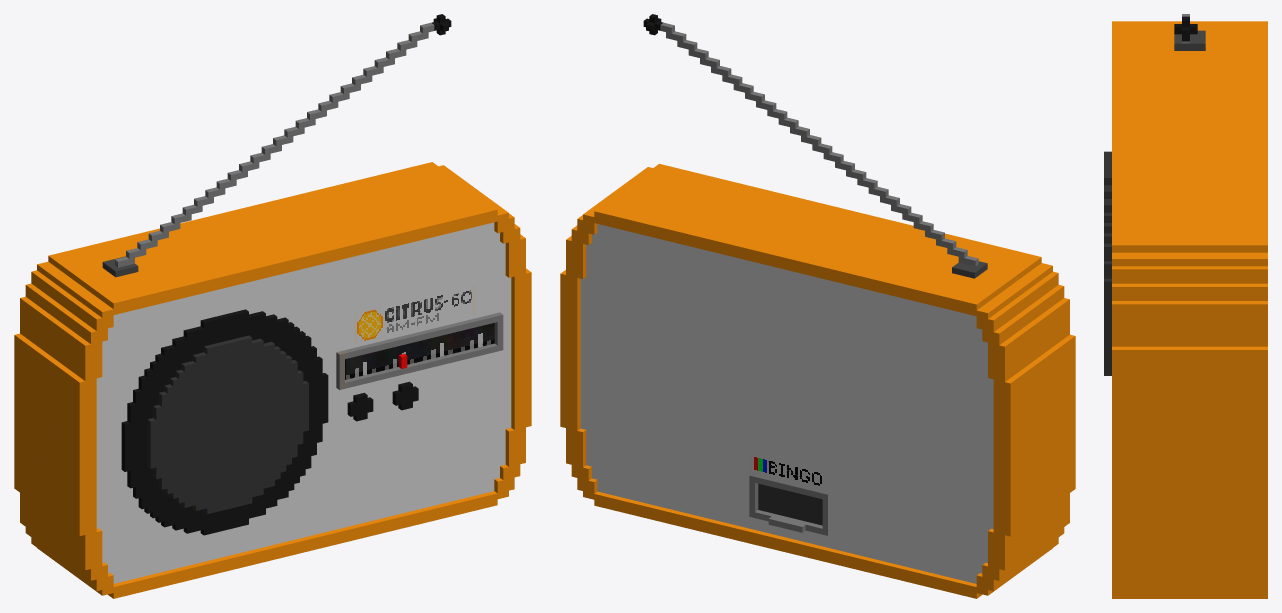
File: RadioRadio.fbx
3 views of the same model, side by side, from view 1: azimuth 30°, elevation 25°; view 2: azimuth 150°, elevation 25°; view 3: azimuth 270°, elevation 25° (orthographic). The views are drawn at different scales.
Parts seen in each view (by area): view 1: Radio; view 2: Radio; view 3: Radio.
Boxes of the visible parts, x1,y1,x2,y2 form: Radio: [14, 14, 531, 598]; Radio: [560, 14, 1075, 598]; Radio: [1104, 14, 1267, 598].
Size of the model in its own units: 8 by 8 by 2.1.
1 material, 1 textured.
